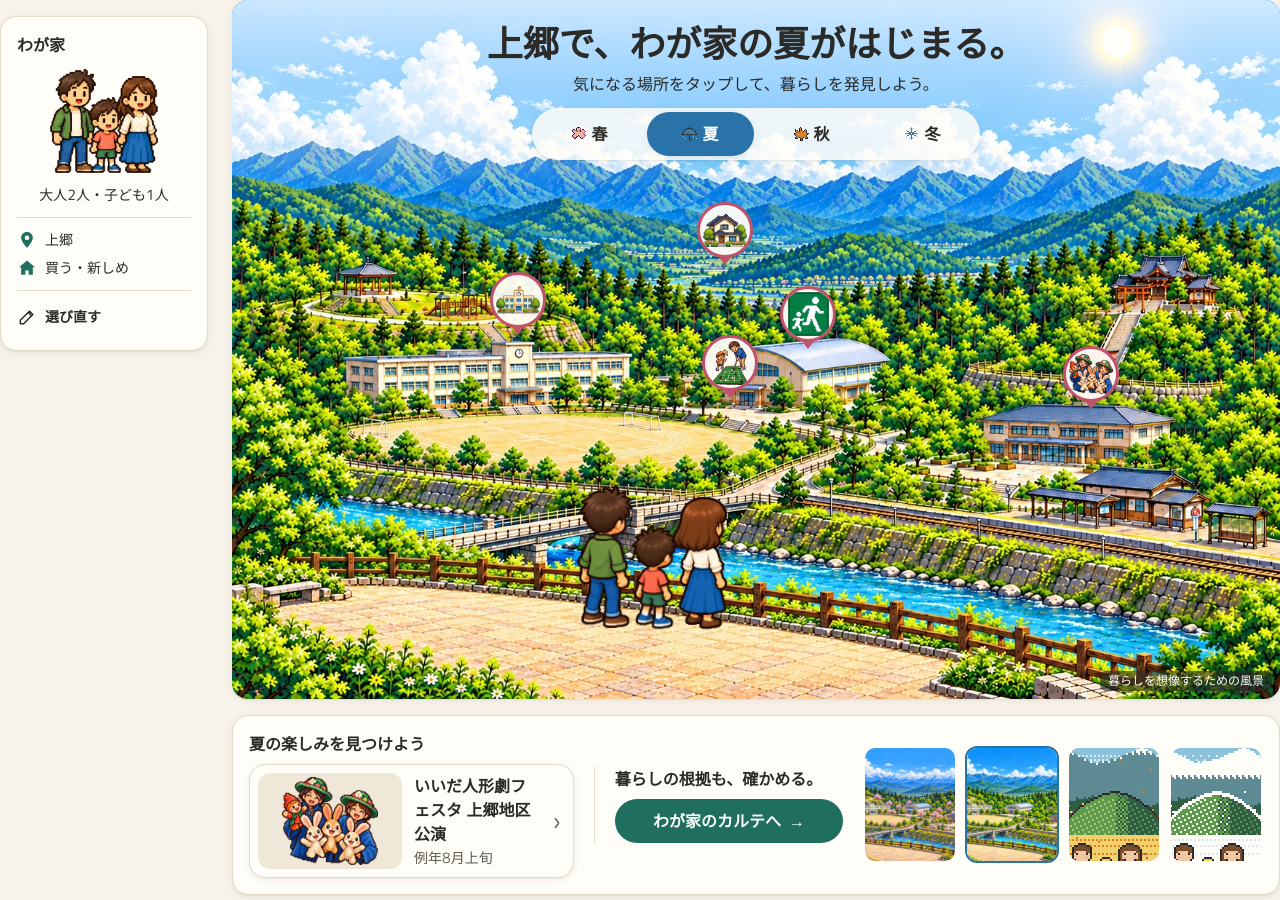
Test: KurashiView：上郷・夏の風景とピン（028） › 行事のピンを押すと、その行事だけを出す
What coordinates should you click on to do the following:
click the button named "スポーツ"
I would click on:
 (730, 367)
Its box is [702,335,758,398].
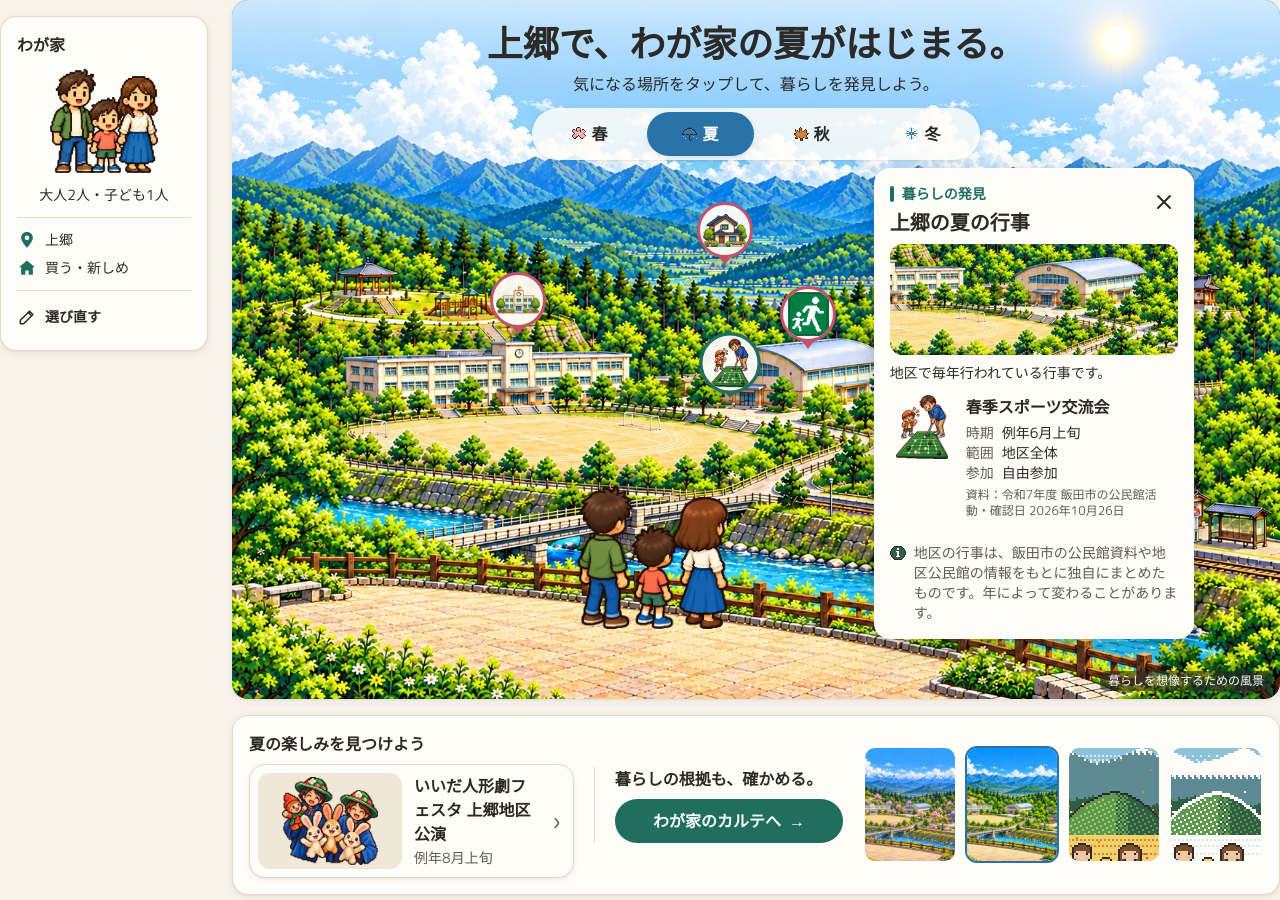
Expected: the dialog "上郷の夏の行事" does not show "人形劇フェスタ", [874,168,1194,639]
Now the dialog "上郷の夏の行事" shows "春季スポーツ交流会", box [966,396,1110,418]
